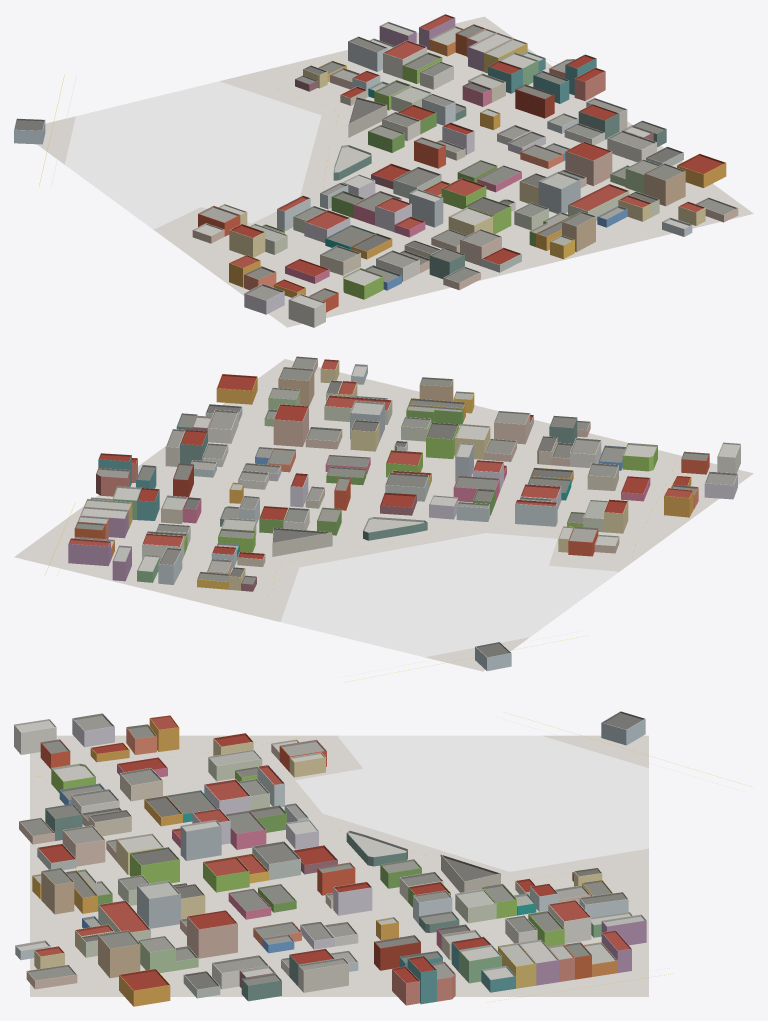
3 renders of one model, top to bottom at view 1: azimuth 30°, elevation 25°; view 2: azimuth 150°, elevation 25°; view 3: azimuth 270°, elevation 25°, orthographic. The views are drawn at different scales.
Visible parts, largest first — view 1: walls, roofs, ground, grass; view 2: ground, walls, roofs, grass; view 3: walls, ground, roofs, grass.
Part boxes in pixels (<box>): walls: <box>14,18,738,327</box>; roofs: <box>14,14,737,308</box>; ground: <box>37,16,753,327</box>; grass: <box>64,81,321,229</box>; ground: <box>14,359,753,671</box>; walls: <box>68,359,740,671</box>; roofs: <box>68,356,740,657</box>; grass: <box>280,533,618,657</box>; walls: <box>14,718,646,1006</box>; ground: <box>30,735,648,996</box>; roofs: <box>14,711,646,990</box>; grass: <box>295,735,648,871</box>.
Size of what is drawn, in the model's own units: 282 by 14.15 by 299.
